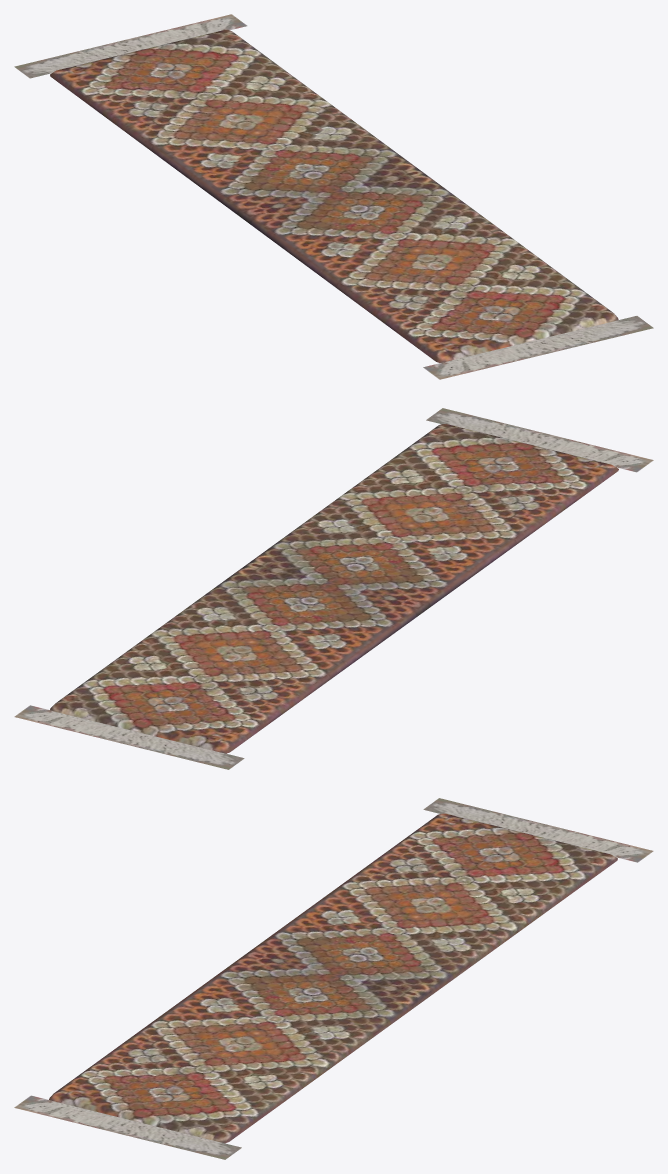
The model's file is SM_carpeSM_long_9f4f0f.glb.
The picture shows the model from 3 angles, top to bottom: view 1: azimuth 30°, elevation 25°; view 2: azimuth 150°, elevation 25°; view 3: azimuth 330°, elevation 25°; orthographic projection.
Size of the model in its own units: 1.54 by 0.0335 by 5.23.
Materials: 1 (1 with a texture image).
